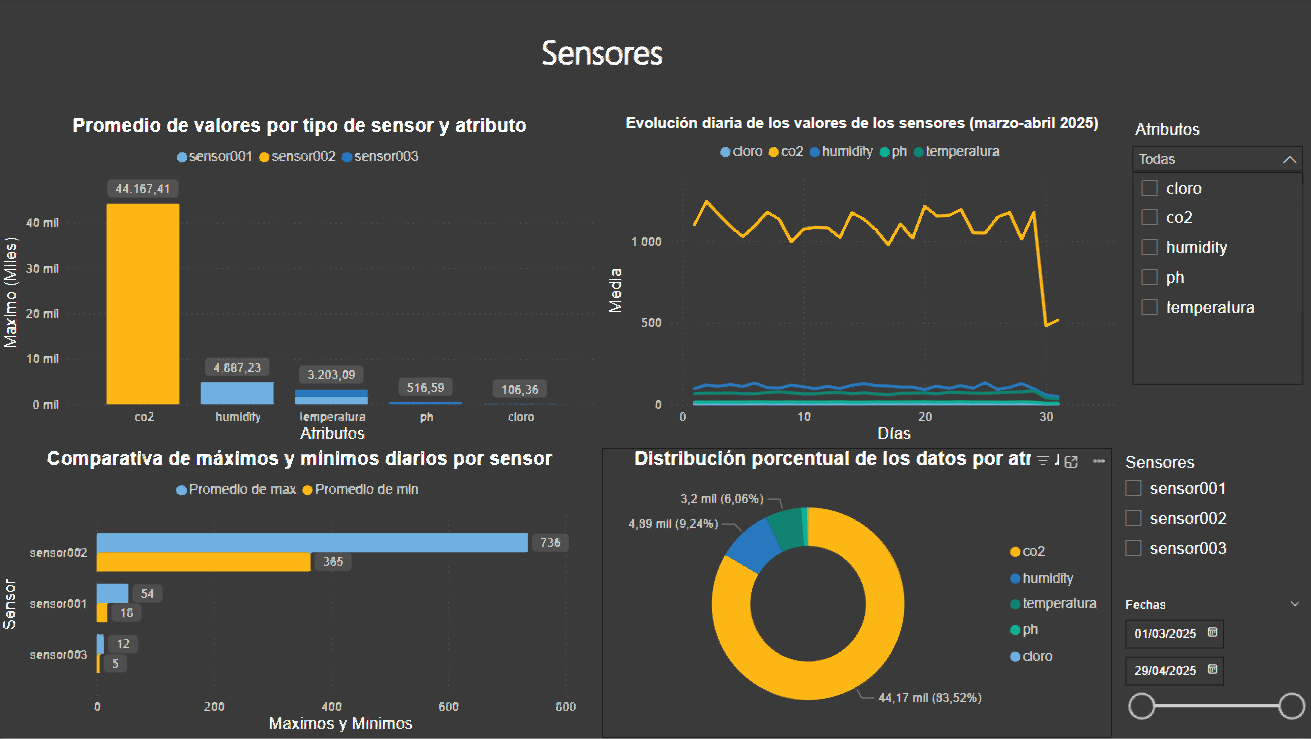

The dashboard page shown, as its layout file describes it:
{"tool":"powerbi","page":{"name":"Página 1","canvas":[1280,720],"ordinal":0},"visuals":[{"type":"columnChart","title":"Promedio de valores por tipo de sensor y atributo","fields":{"Category":["resumen_diario_sensores.atributo"],"Y":["Sum(resumen_diario_sensores.max)"],"Series":["resumen_diario_sensores.entity_id"]},"box":[0,113.8,588.4,323.9],"z":0},{"type":"lineChart","title":"Evolución diaria de los valores de los sensores (marzo-abril 2025)","fields":{"Series":["resumen_diario_sensores.atributo"],"Y":["Sum(resumen_diario_sensores.avg)"],"Category":["resumen_diario_sensores.fecha.Variación.Jerarquía de fechas.Día"]},"box":[588.4,113.8,505.8,323.9],"z":1000},{"type":"clusteredBarChart","title":"Comparativa de máximos y mínimos diarios por sensor","fields":{"Y":["Avg(resumen_diario_sensores.max)","Avg(resumen_diario_sensores.min)"],"Category":["resumen_diario_sensores.entity_id"]},"box":[0,437.7,588.4,282.1],"z":2000},{"type":"slicer","fields":{"Values":["resumen_diario_sensores.atributo"]},"box":[1094.2,113.8,185.8,67.1],"z":3000},{"type":"slicer","fields":{"Values":["resumen_diario_sensores.entity_id"]},"box":[1084.5,437.7,195.5,128.4],"z":4000},{"type":"slicer","fields":{"Values":["resumen_diario_sensores.fecha"]},"box":[1084.5,578.7,195.5,141],"z":5000},{"type":"textbox","box":[502.9,24.3,171.2,55.4],"z":6000},{"type":"donutChart","title":"Distribución porcentual de los datos por atributo","fields":{"Category":["resumen_diario_sensores.atributo"],"Y":["Sum(resumen_diario_sensores.max)"]},"box":[588.4,437.7,496,282.1],"z":7000}]}

Visuals, with their boxes in screenshot pixels (x1, y1, x2, y2), scaled from the page's 1280x720 canvas onto the 1311x739 screenshot:
"Promedio de valores por tipo de sensor y atributo" columnChart: l=0, t=117, r=603, b=449
"Evolución diaria de los valores de los sensores (marzo-abril 2025)" lineChart: l=603, t=117, r=1121, b=449
"Comparativa de máximos y mínimos diarios por sensor" clusteredBarChart: l=0, t=449, r=603, b=738
slicer - resumen_diario_sensores.atributo: l=1121, t=117, r=1310, b=186
slicer - resumen_diario_sensores.entity_id: l=1111, t=449, r=1310, b=581
slicer - resumen_diario_sensores.fecha: l=1111, t=594, r=1310, b=738
textbox: l=515, t=25, r=690, b=82
"Distribución porcentual de los datos por atributo" donutChart: l=603, t=449, r=1111, b=738
